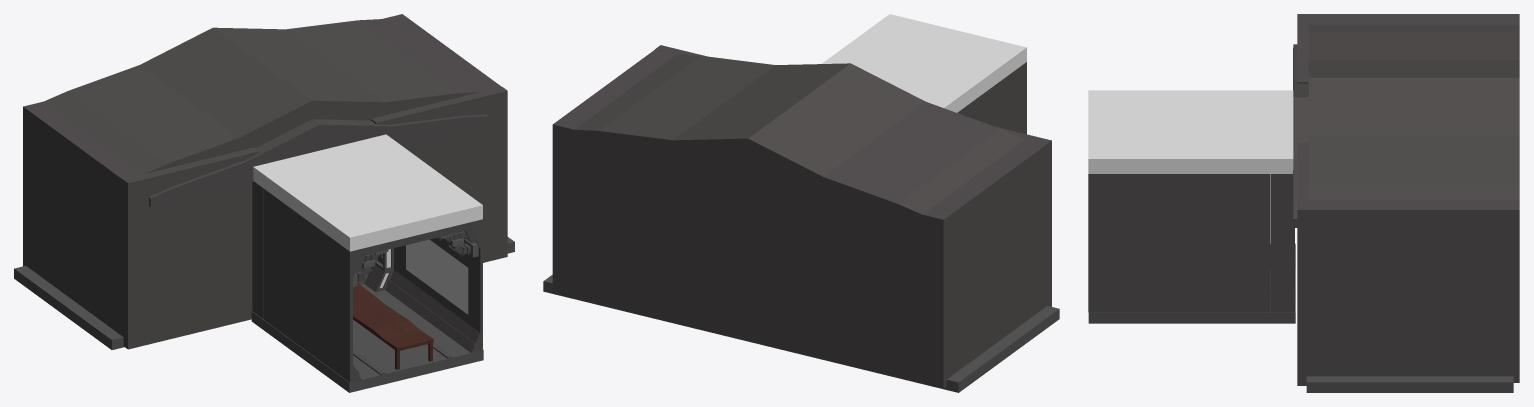
Rendered from Resturant.fbx.
3 renders of one model, left to right at view 1: azimuth 30°, elevation 25°; view 2: azimuth 150°, elevation 25°; view 3: azimuth 270°, elevation 25°, orthographic. The views are drawn at different scales.
Parts seen in each view (by area): view 1: HOUSE.002, Cube, Door, Door.001, Cube.001, Cube.008, HOUSE.001; view 2: HOUSE.002, Cube, Cube.008, Door; view 3: HOUSE.002, Cube, Cube.009, Door.001, Door.
Boxes of the visible parts, x1,y1,x2,y2 form: HOUSE.002: (23,14,501,336); Cube: (251,134,483,392); Door: (122,147,259,349); Door.001: (371,87,507,267); Cube.001: (353,283,433,369); Cube.008: (14,265,124,349); HOUSE.001: (353,223,478,286); HOUSE.002: (552,49,1046,388); Cube: (822,14,1026,134); Cube.008: (820,306,1059,392); Door: (995,126,1051,306); HOUSE.002: (1293,14,1519,382); Cube: (1088,90,1295,323); Cube.009: (1306,376,1513,392); Door.001: (1297,142,1308,385); Door: (1297,14,1308,83).
Size of the model in its own units: 8342 by 3952 by 7309.
